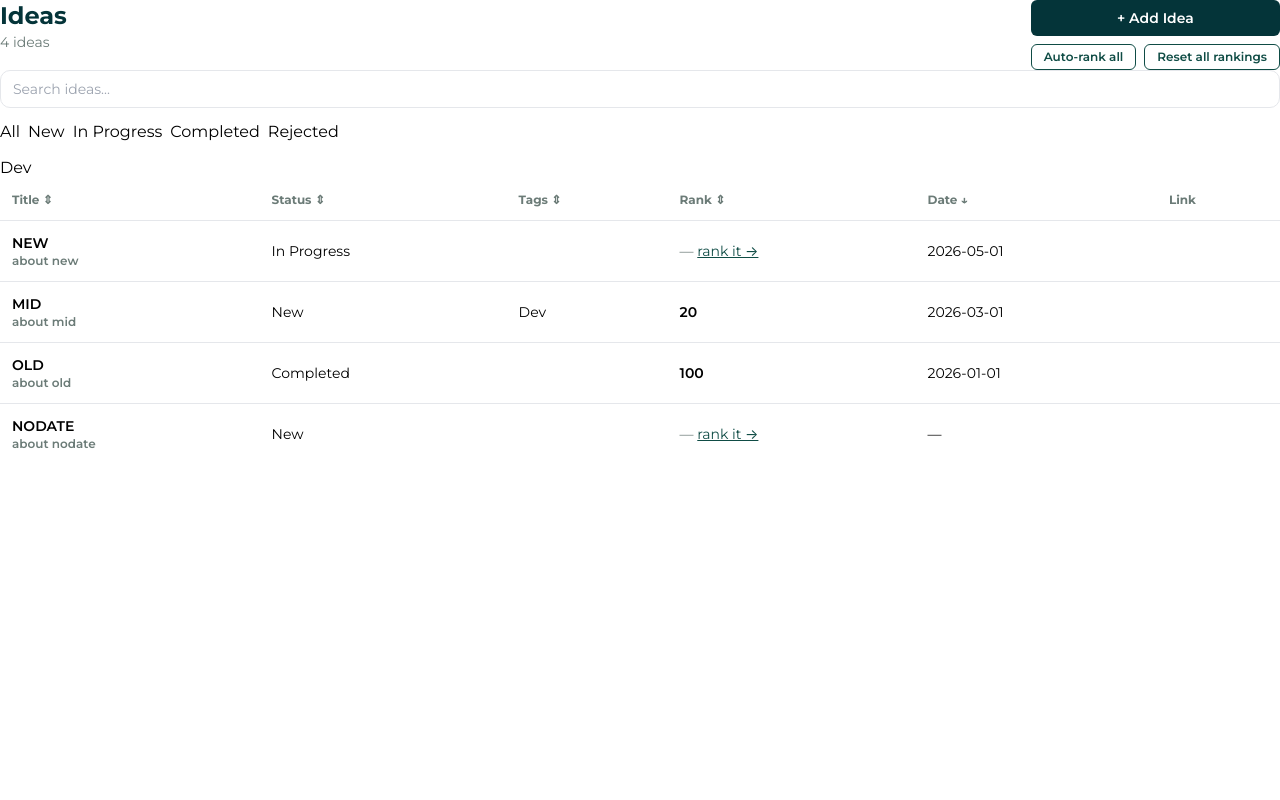
it: Add Idea › shows the AI stub error "AI is not configured yet" and stays on input
Expected: the row with test id "row-old" is shown, [0,342,1279,404]
Click the button "+ Add Idea".
click(1155, 18)  # box [1031,0,1279,36]
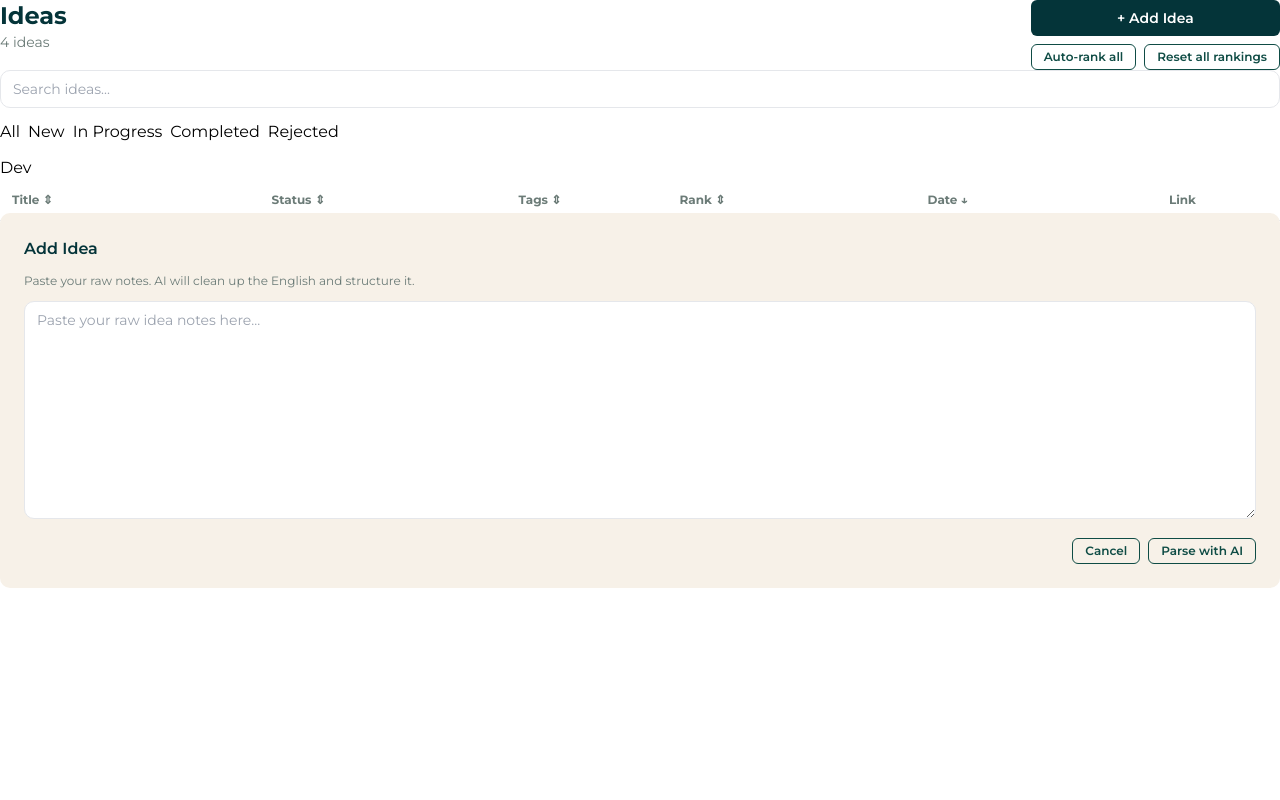
Type "raw notes" into the text box with placeholder "Paste your raw idea notes here...".
click(640, 410); type("raw notes")  # box [24,300,1256,518]
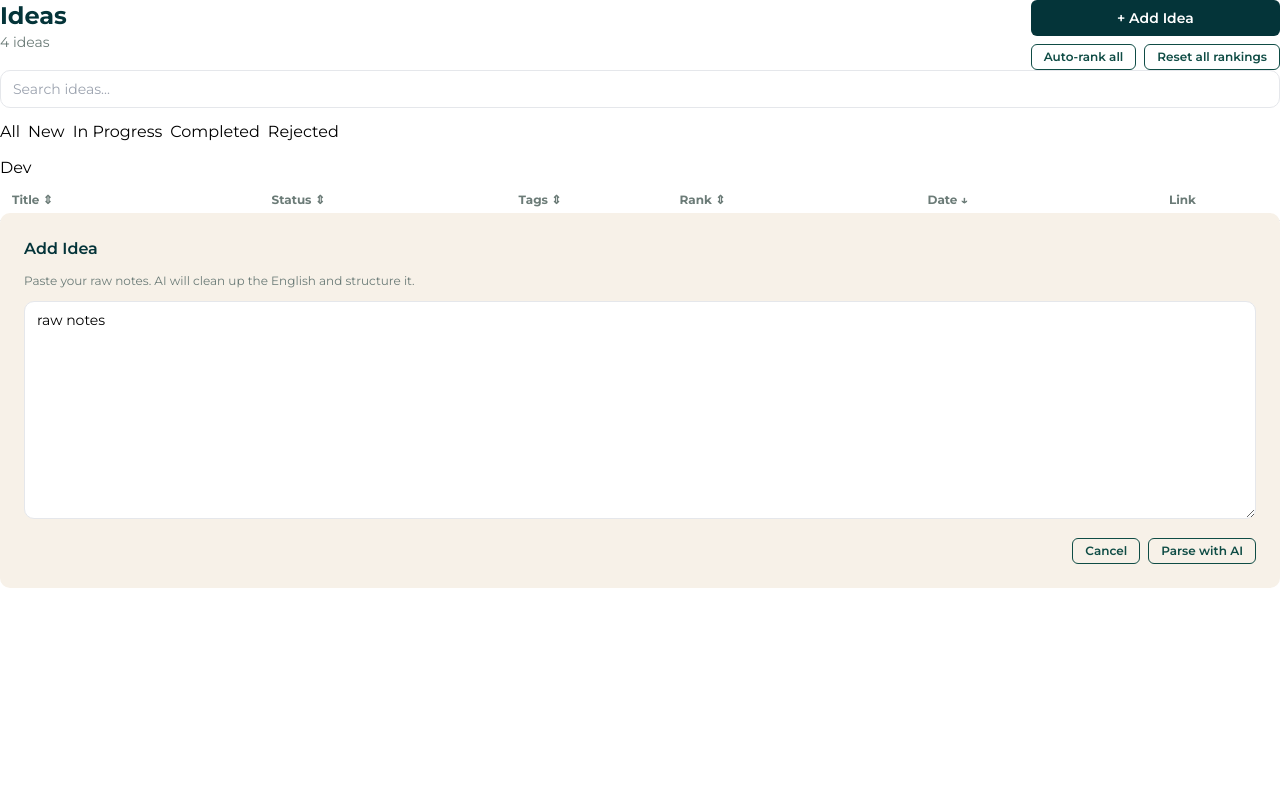
Click the button "Parse with AI".
click(1202, 550)  # box [1148,538,1256,564]
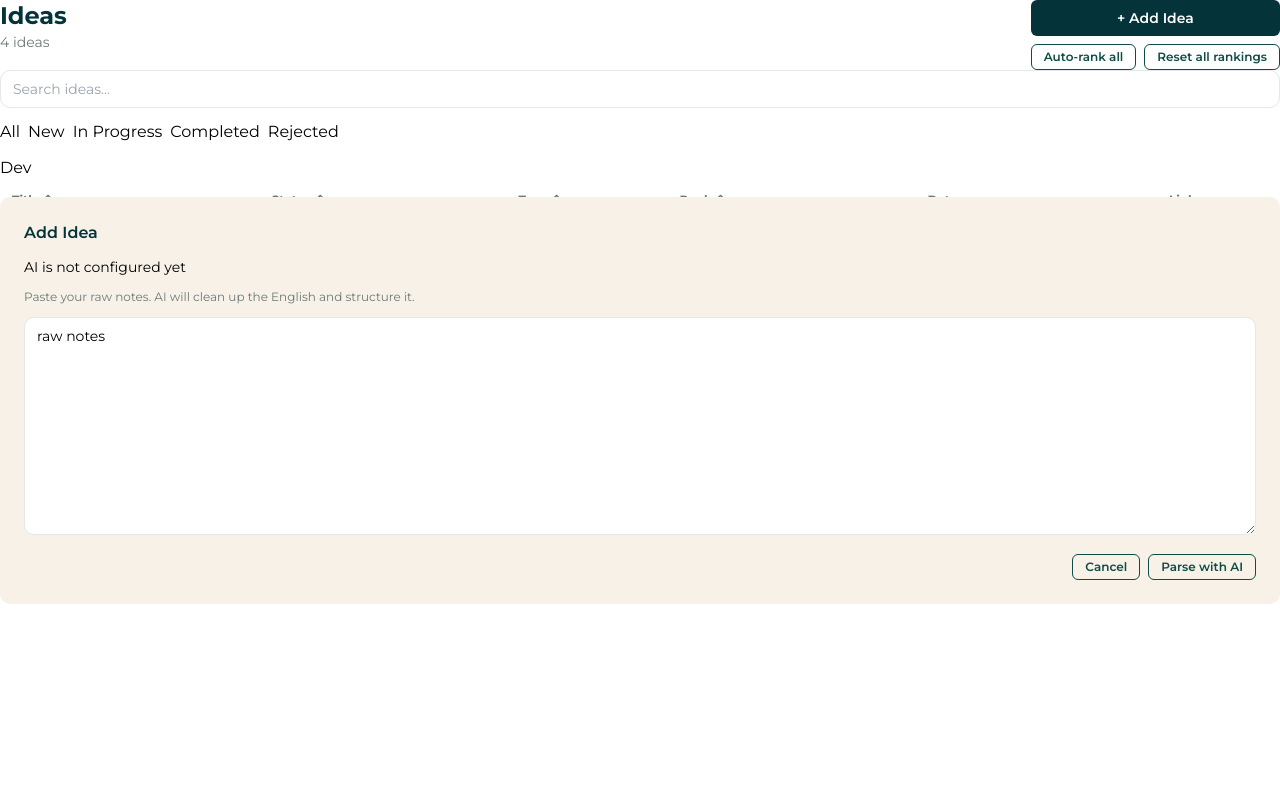
Expected: the text box with placeholder "Paste your raw idea notes here..." is shown, [24,316,1256,534]
Expected: the message reads "AI is not configured yet", [24,258,186,276]
